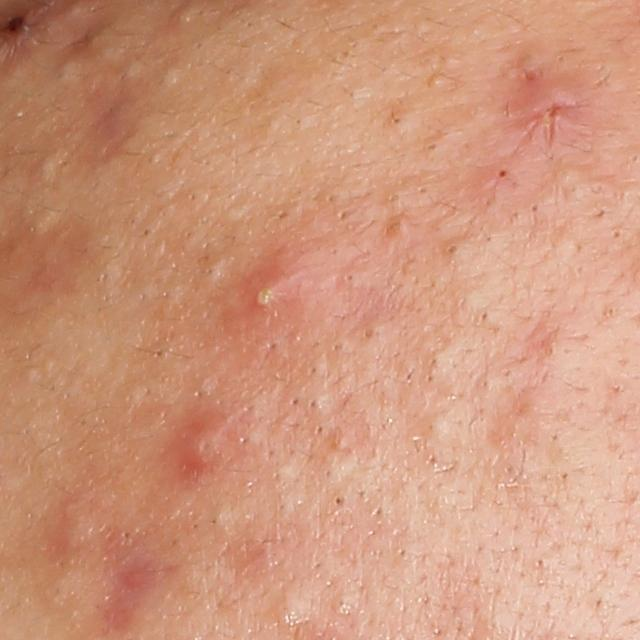comedo: (420, 410, 453, 438), (383, 110, 414, 136), (170, 4, 199, 30), (199, 257, 225, 284), (443, 239, 467, 263), (36, 157, 57, 184), (382, 188, 407, 208), (332, 595, 353, 618), (161, 66, 181, 90), (340, 270, 363, 290), (304, 394, 328, 413), (358, 323, 382, 342), (427, 72, 447, 90), (153, 346, 167, 362), (611, 224, 625, 239), (273, 210, 290, 222)
papule: (525, 85, 573, 139), (183, 425, 230, 475), (60, 499, 99, 552)
pustule: (242, 269, 292, 320)
